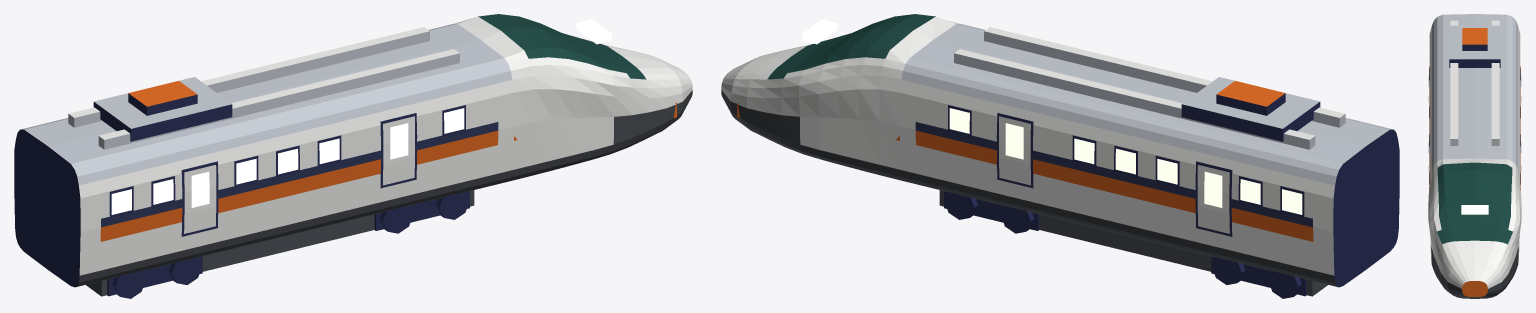
File: thsr-700t.glb
3 views of the same model, side by side, from view 1: azimuth 30°, elevation 25°; view 2: azimuth 150°, elevation 25°; view 3: azimuth 270°, elevation 25° (orthographic). The views are drawn at different scales.
Visible parts, largest first — view 1: thsr-700t_root; view 2: thsr-700t_root; view 3: thsr-700t_root.
Boxes of the visible parts, <box> form: thsr-700t_root: <box>14,14,692,298</box>; thsr-700t_root: <box>721,14,1399,298</box>; thsr-700t_root: <box>1428,14,1521,298</box>.
Bounding box in the file's own units: 17.6 × 4.48 × 3.28.
Materials: 2 (2 with a texture image).
